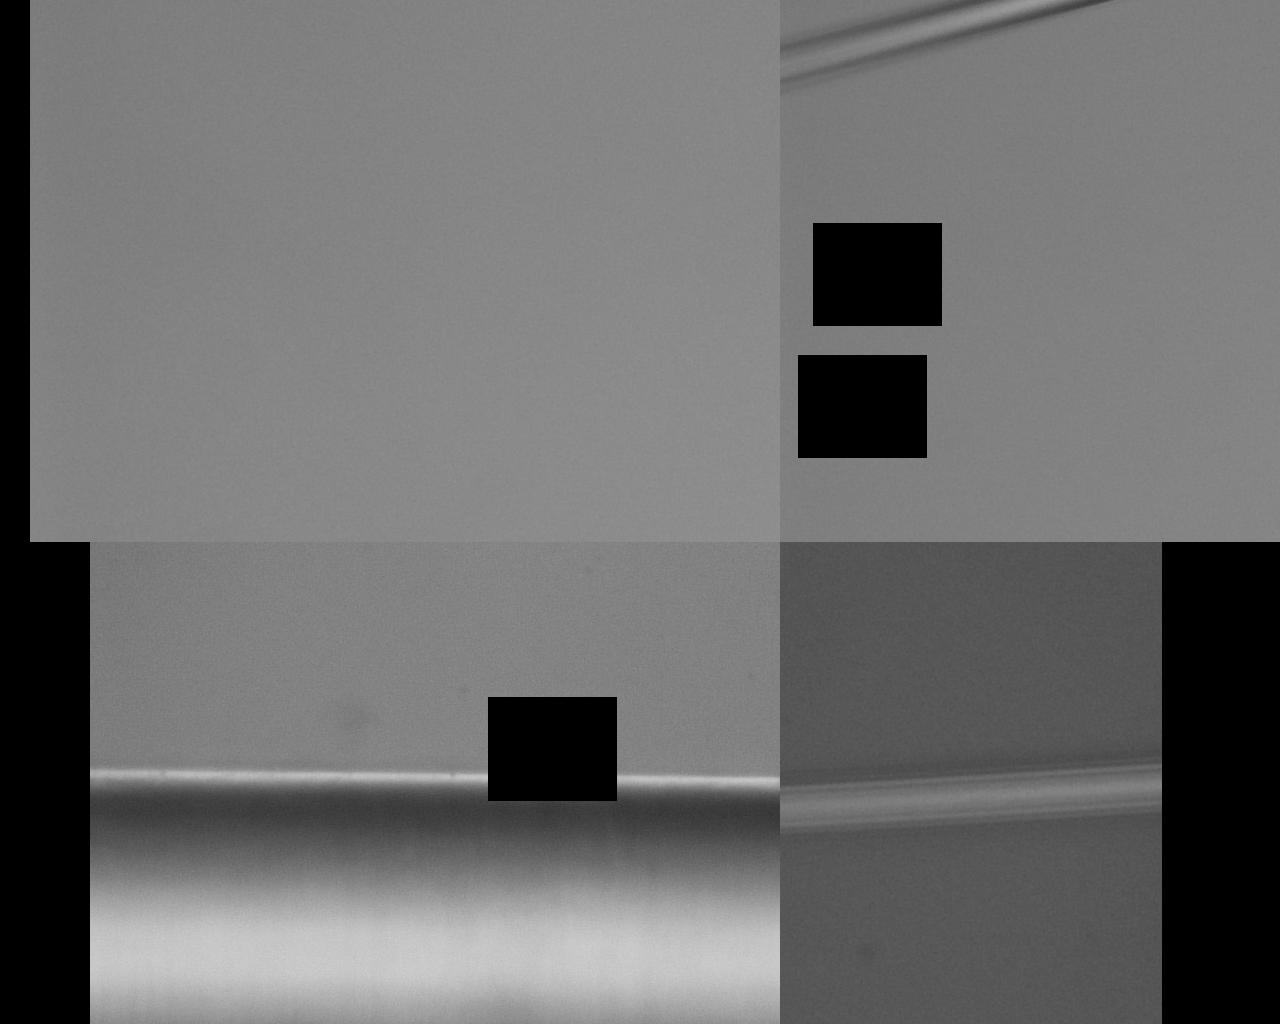fiber: (768, 480, 1280, 982), (285, 471, 473, 1024), (549, 0, 669, 471)
